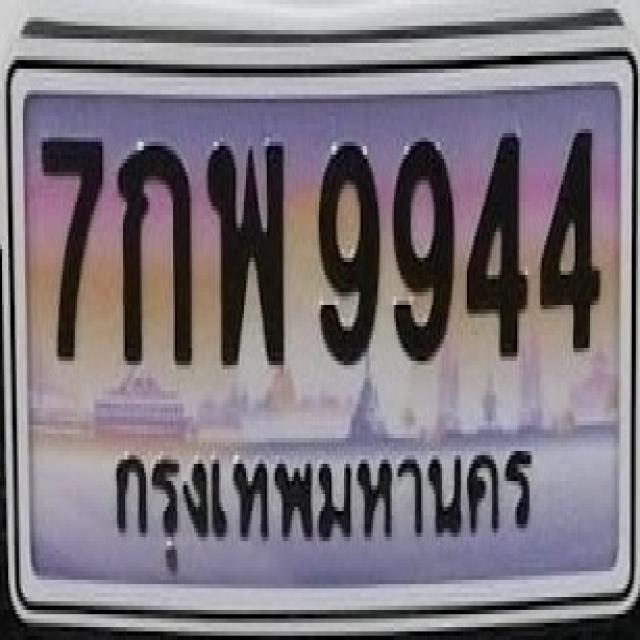license_plate: (2, 21, 638, 640)
